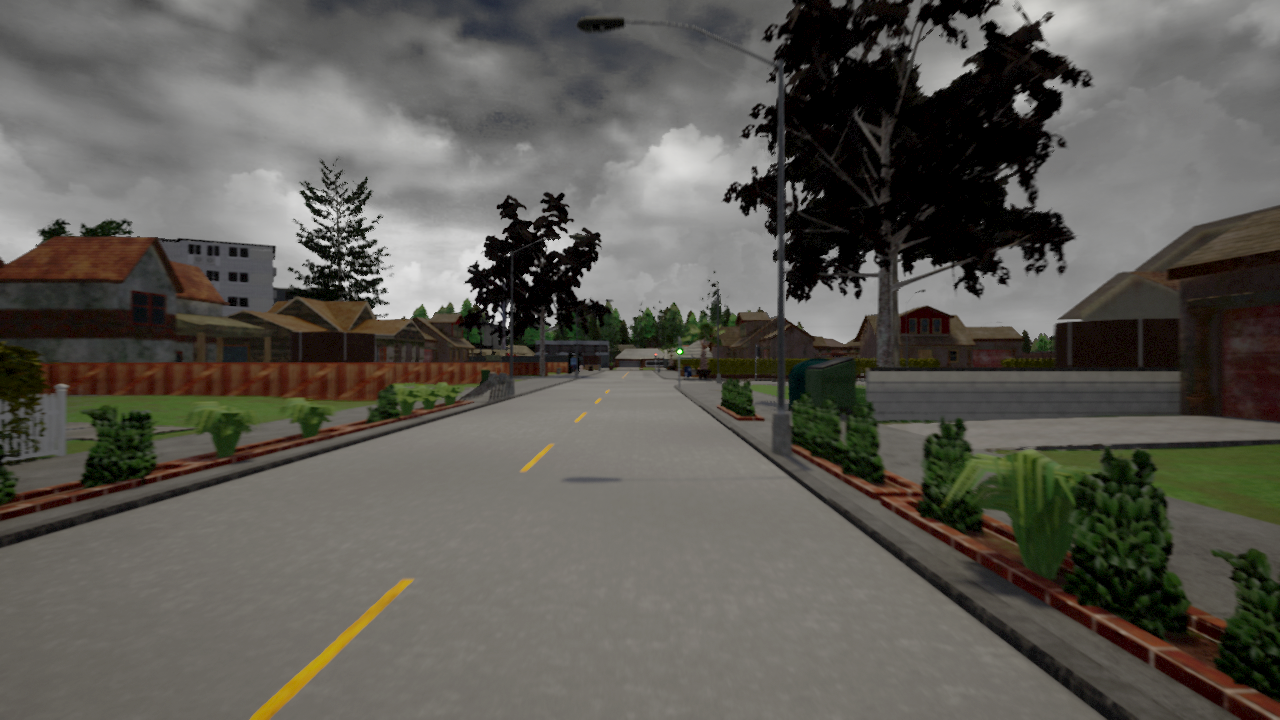green: (676, 340, 684, 355)
